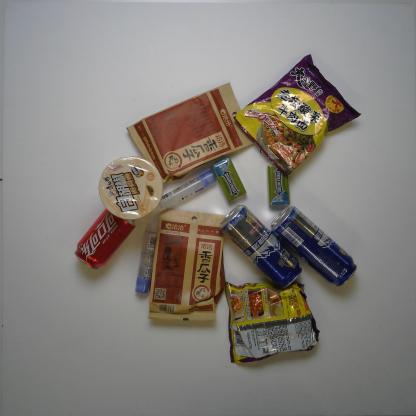Alcohol: (219, 203, 306, 291), (266, 205, 358, 288)
Dried Food: (126, 80, 256, 192), (149, 204, 226, 326)
Drink: (71, 204, 137, 272)
Gum: (212, 156, 247, 203), (267, 165, 290, 206)
Instant Noodles: (232, 52, 361, 182), (220, 272, 318, 363), (95, 155, 164, 223)
Stationery: (150, 167, 219, 214), (137, 210, 161, 294)
